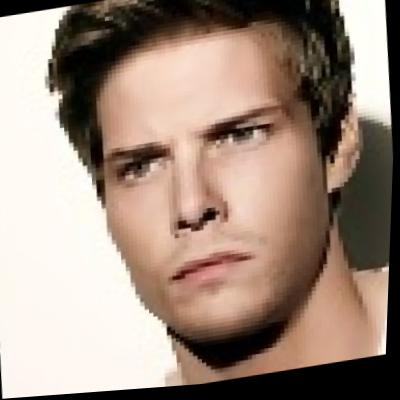angry: (84, 9, 344, 358)
